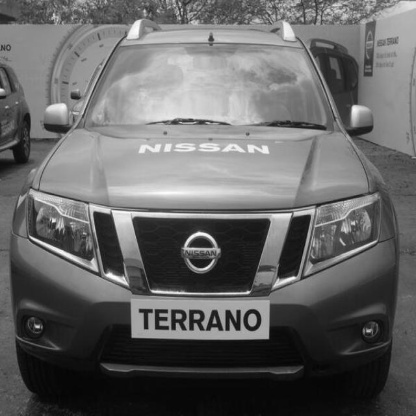car: (9, 29, 402, 416), (0, 63, 31, 171)
